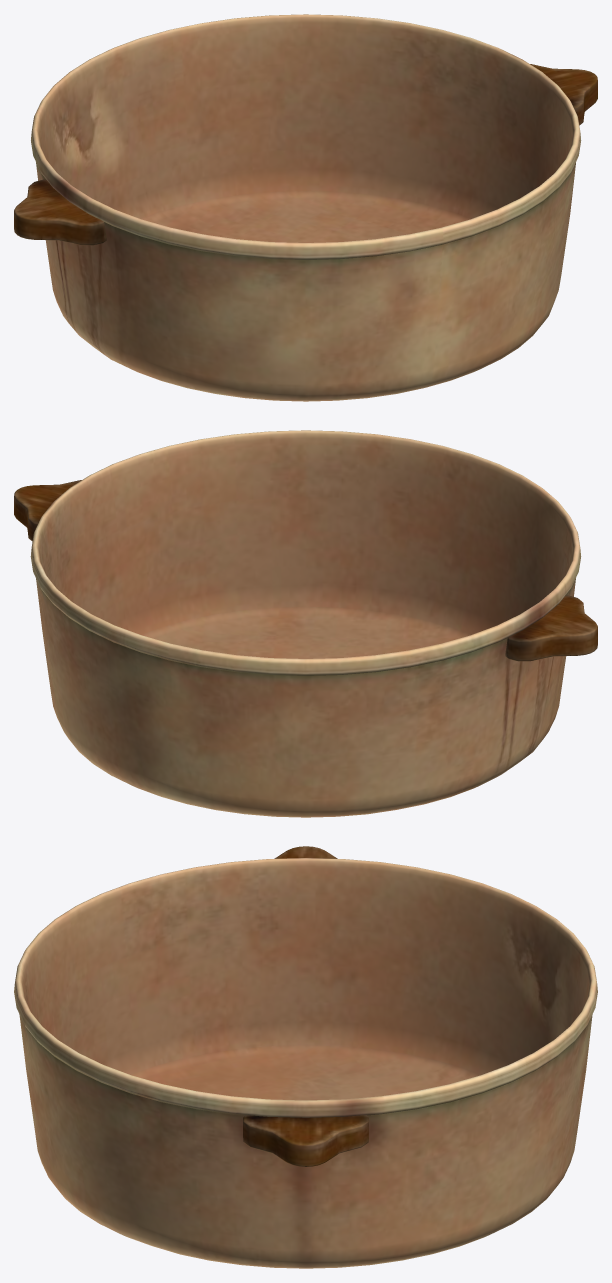
File: brass_pot_02.gltf
The picture shows the model from 3 angles, top to bottom: view 1: azimuth 30°, elevation 25°; view 2: azimuth 150°, elevation 25°; view 3: azimuth 270°, elevation 25°; orthographic projection. The views are drawn at different scales.
Visible parts, largest first — view 1: brass_pot_02; view 2: brass_pot_02; view 3: brass_pot_02.
Part boxes in pixels (box(x1,y1,x2,y2)): brass_pot_02: box(14, 14, 597, 401); brass_pot_02: box(14, 430, 597, 817); brass_pot_02: box(14, 846, 597, 1268).
Size of the model in its own units: 0.3667 by 0.1085 by 0.3023.
Materials: 1 (1 with a texture image).
